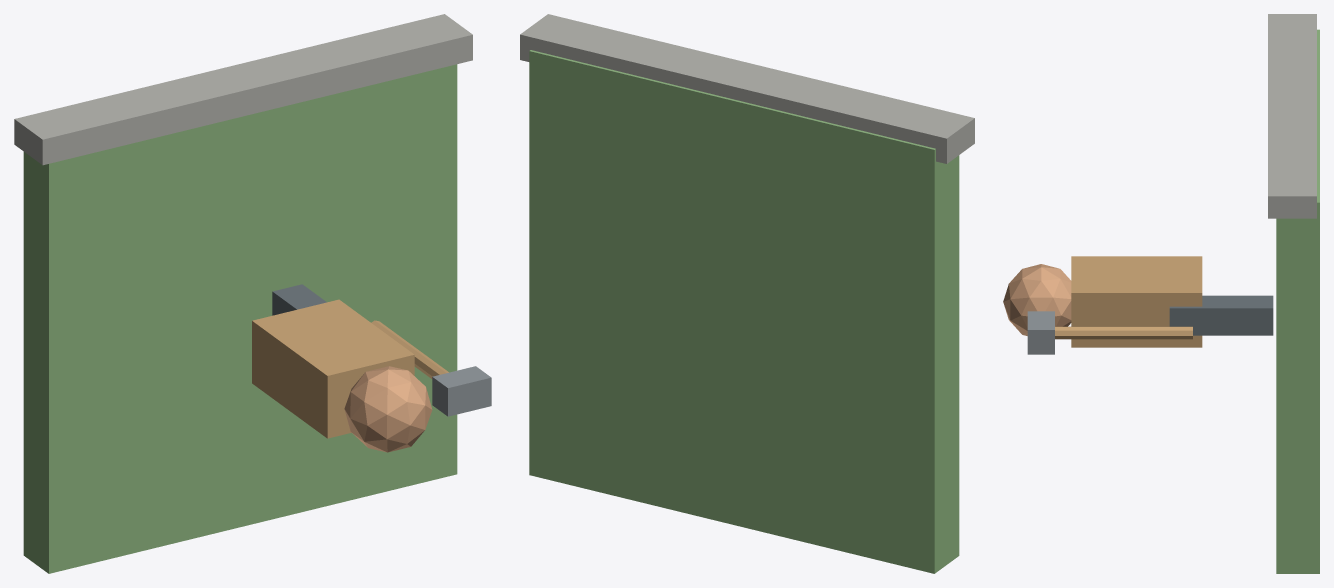
File: 08_ThoMoc.glb
The picture shows the model from 3 angles, left to right: view 1: azimuth 30°, elevation 25°; view 2: azimuth 150°, elevation 25°; view 3: azimuth 270°, elevation 25°; orthographic projection. The views are drawn at different scales.
Parts seen in each view (by area): view 1: base, edge, body, head, hammer, leg, hammerhandle; view 2: base, edge; view 3: base, edge, body, leg, head, hammerhandle, hammer.
Boxes of the visible parts, bbox=[...] form: base: bbox=[23, 64, 457, 573]; edge: bbox=[14, 14, 472, 165]; body: bbox=[252, 299, 414, 438]; head: bbox=[344, 366, 432, 452]; hammer: bbox=[432, 366, 491, 416]; leg: bbox=[272, 284, 326, 315]; hammerhandle: bbox=[371, 320, 448, 378]; base: bbox=[529, 50, 959, 573]; edge: bbox=[520, 14, 974, 163]; base: bbox=[1276, 29, 1319, 573]; edge: bbox=[1268, 14, 1316, 218]; body: bbox=[1071, 256, 1202, 347]; leg: bbox=[1169, 295, 1273, 335]; head: bbox=[1003, 264, 1071, 335]; hammerhandle: bbox=[1055, 326, 1192, 339]; hammer: bbox=[1027, 311, 1054, 354].
Size of the model in its own units: 1.58 by 1.55 by 1.16.
